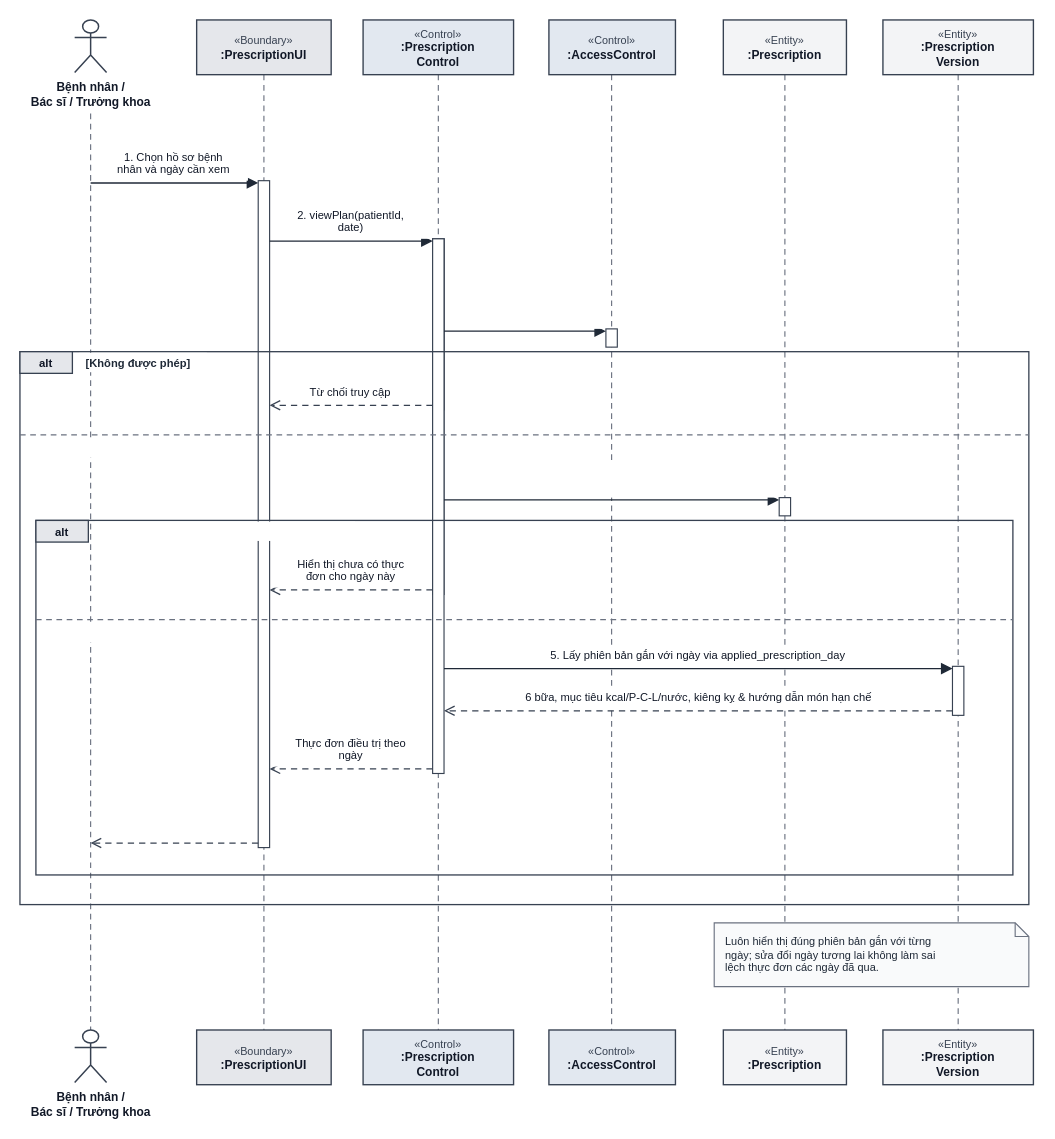
Some shapes in this 1055 by 1139 pixel diagram are drawn without their labels. The centre of each missing label's shape, as x and y in pixels:
3. checkPatientScope(SELF / ASSIGNED / HEAD_DOCTOR): point 524,294
4. Tìm phiếu ISSUED áp dụng (bệnh nhân không thấy DRAFT): point 611,479
[Có phiếu áp dụng]: point 111,632
[Không có phiếu ISSUED cho ngày chọn]: point 225,530
[Được phép]: point 72,447
Hiển thị khẩu phần chuẩn, quy đổi gia dụng và lời dặn: point 173,814
